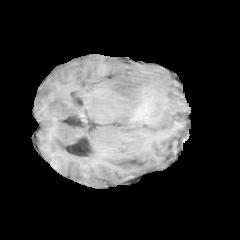glioma: (110, 66, 182, 128)
